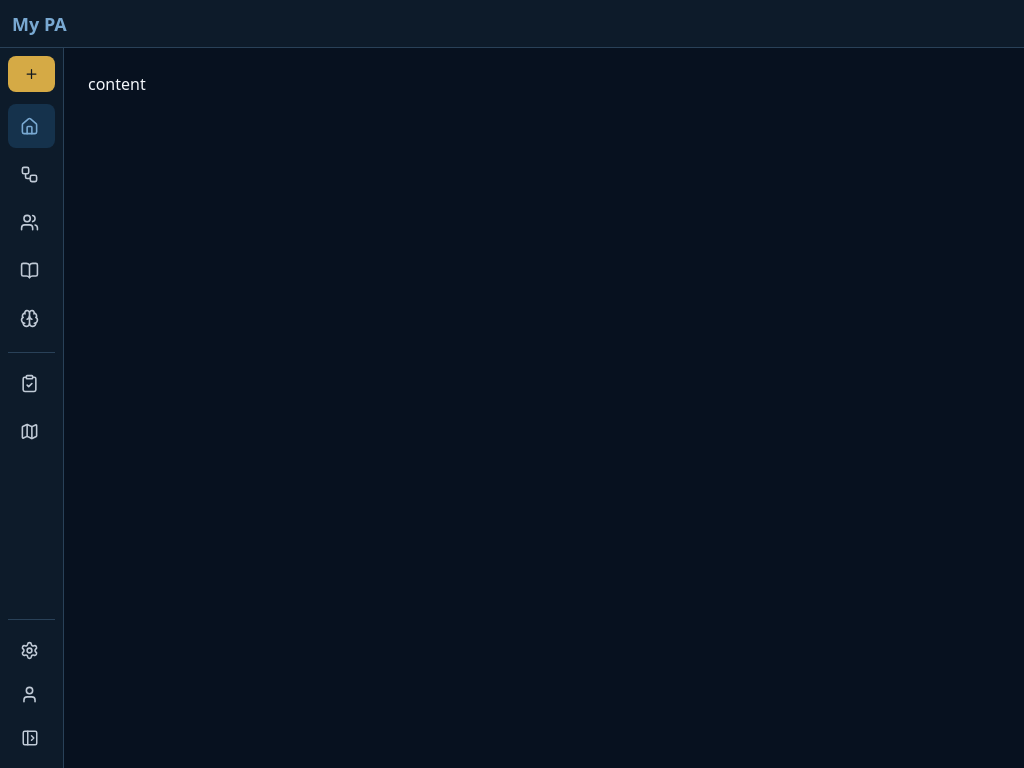
app shell › opens Capture, focuses the field, and sends one attempt-keyed submission
Click the button named "Search or create": (32, 74) x1=8 y1=56 x2=55 y2=92
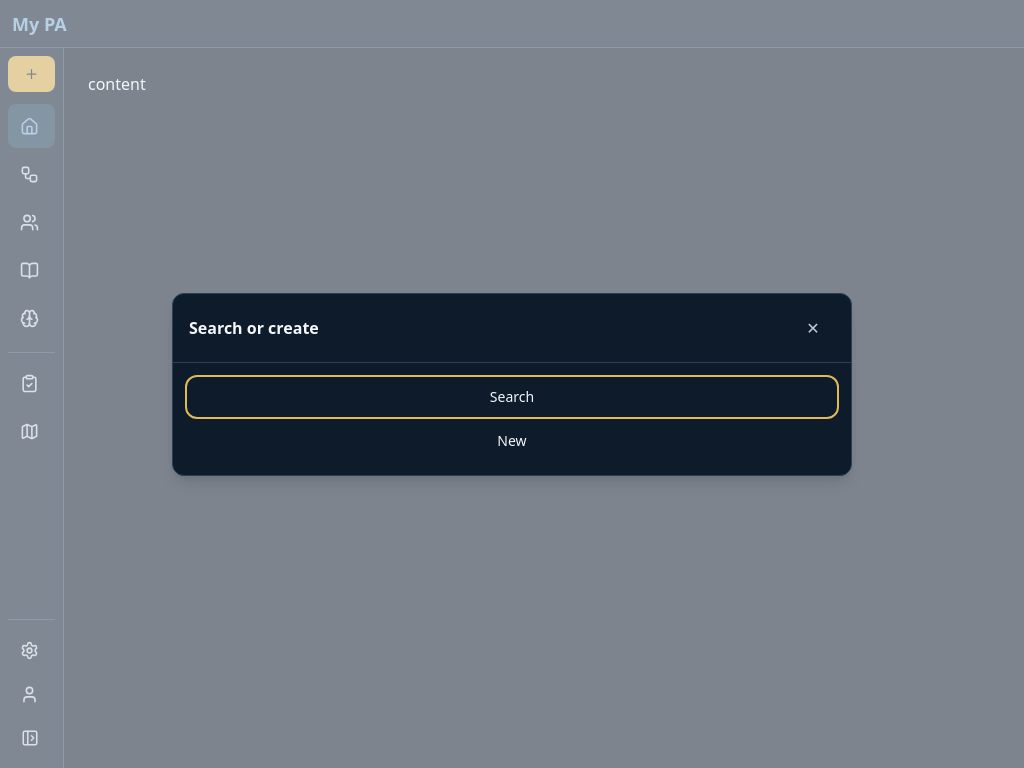
Click the button "New": (512, 440) x1=189 y1=422 x2=835 y2=458
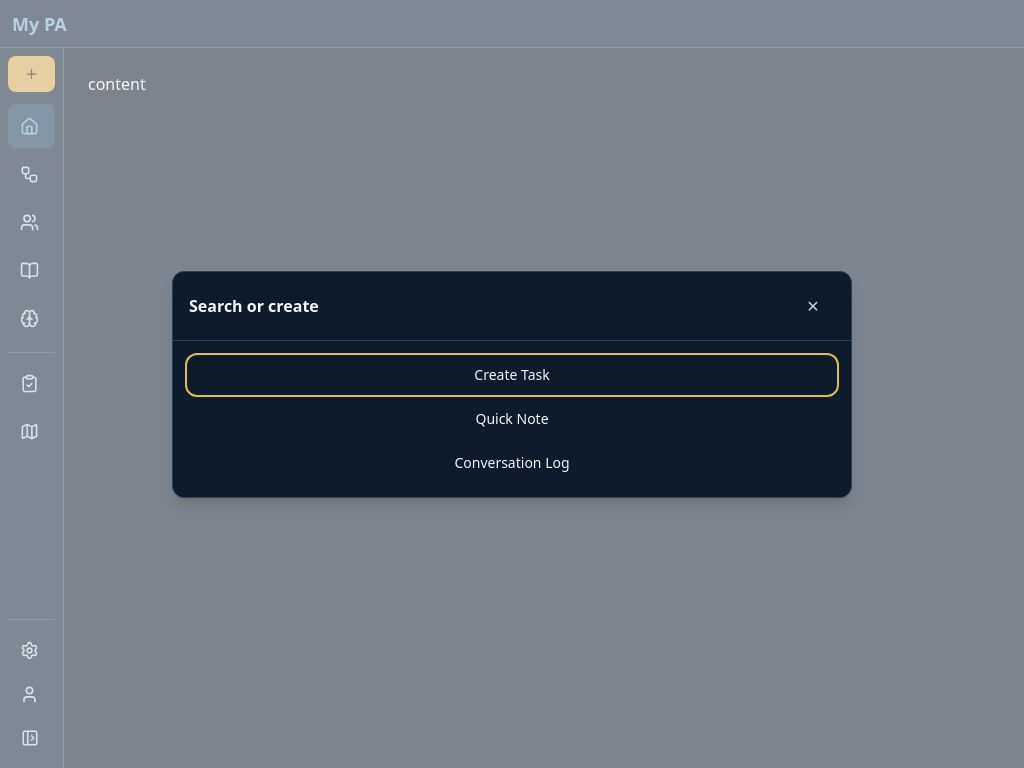
# New enters the canonical Quick Note Capture branch.
Click the button "Quick Note": (512, 418) x1=189 y1=400 x2=835 y2=436
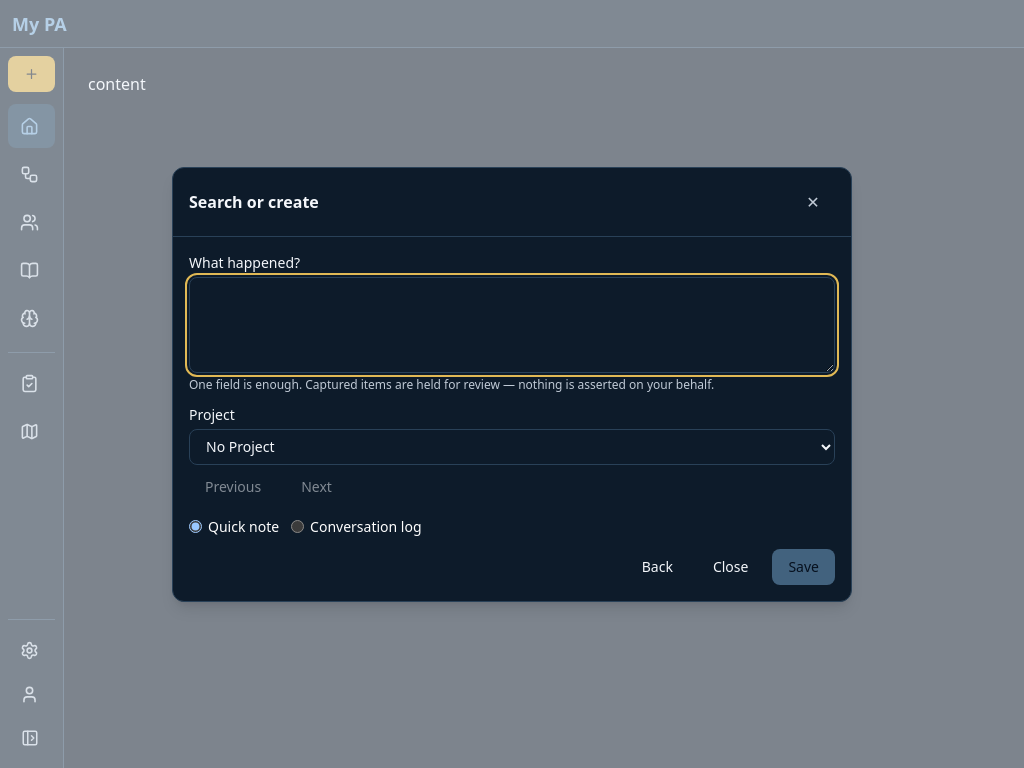
In the text box with test id "capture-field": (512, 324) x1=189 y1=276 x2=835 y2=372, type "synthetic note delta"
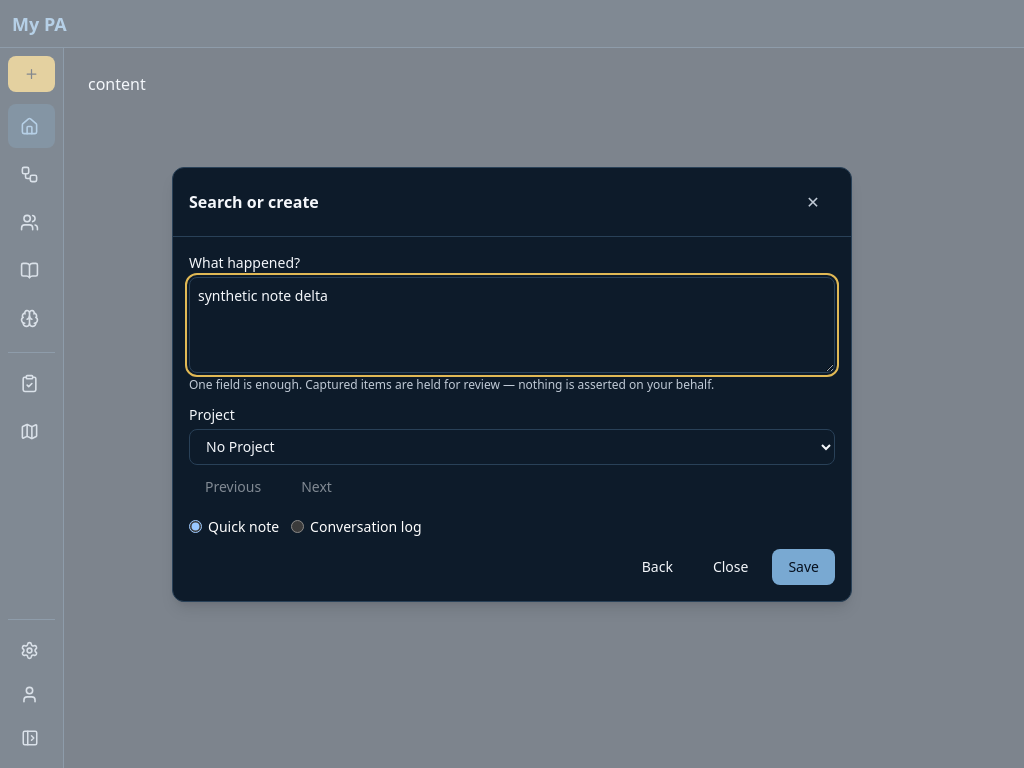
Click the button "Save": (804, 566) x1=772 y1=548 x2=835 y2=584
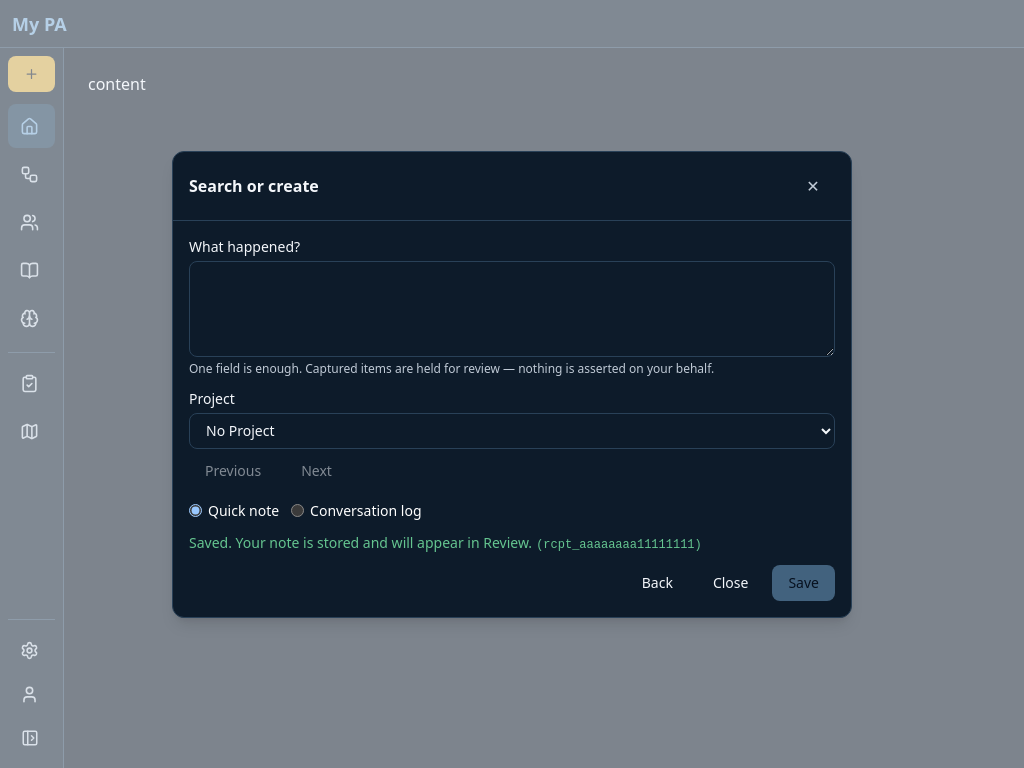
Result: the message with test id "capture-durable" shows "Saved. Your note is stored and will appear in Review." at x1=189 y1=532 x2=532 y2=552
